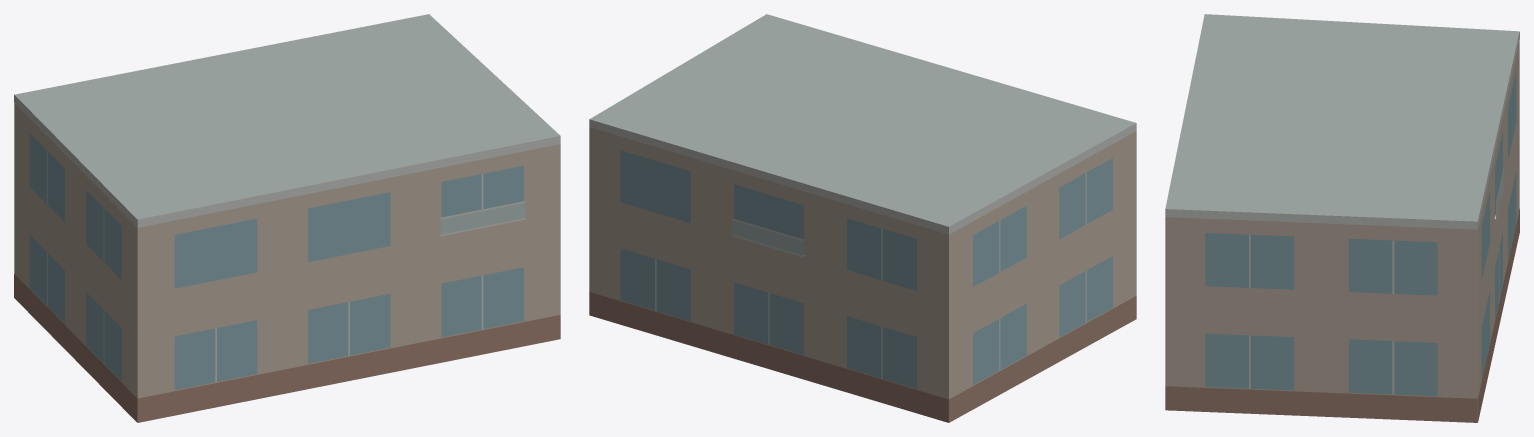
Rendered from survey-upis-32873907.glb.
The picture shows the model from 3 angles, left to right: view 1: azimuth 30°, elevation 25°; view 2: azimuth 150°, elevation 25°; view 3: azimuth 270°, elevation 25°; orthographic projection. The views are drawn at different scales.
Visible parts, largest first — view 1: survey-upis-32873907.tmp; view 2: survey-upis-32873907.tmp; view 3: survey-upis-32873907.tmp.
Part boxes in pixels (<box>): survey-upis-32873907.tmp: <box>14,14,560,422</box>; survey-upis-32873907.tmp: <box>589,14,1136,422</box>; survey-upis-32873907.tmp: <box>1165,14,1519,422</box>.
Bounding box in the file's own units: 13.51 × 6.1 × 9.75.
